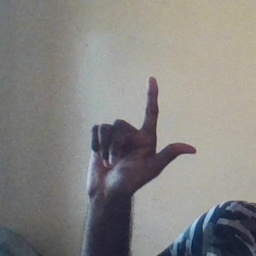L: (88, 77, 200, 193)
